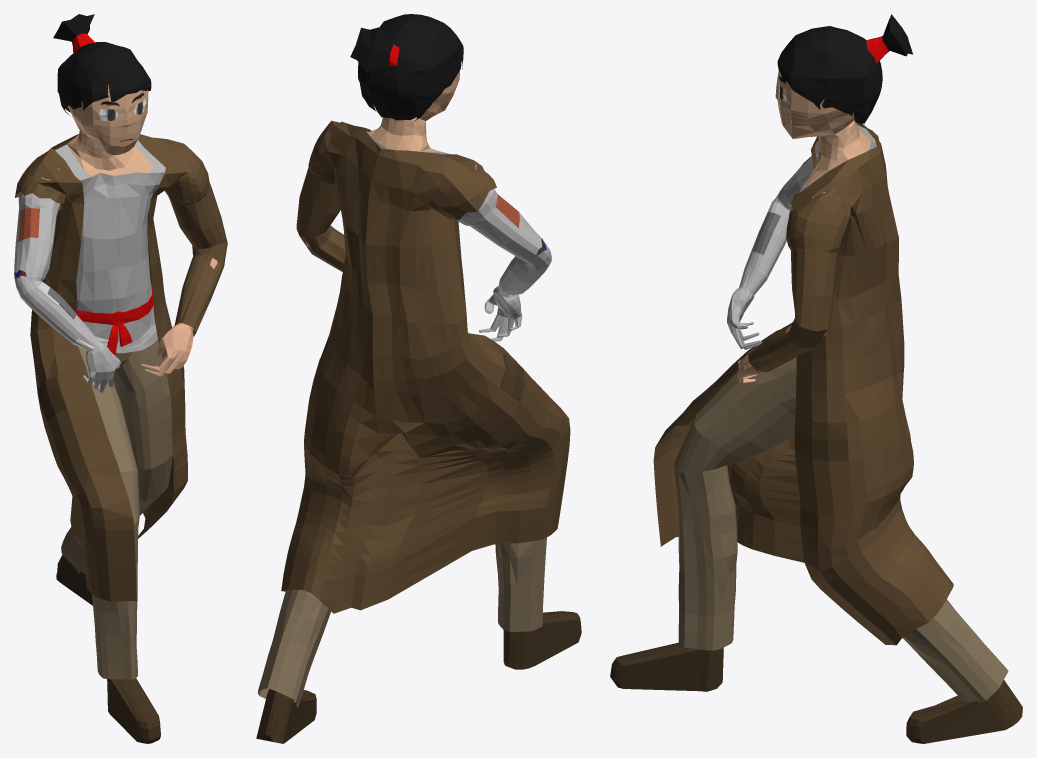
The model's file is One_Bash_000012.obj.
3 views of the same model, side by side, from view 1: azimuth 30°, elevation 25°; view 2: azimuth 150°, elevation 25°; view 3: azimuth 270°, elevation 25° (orthographic). The views are drawn at different scales.
Visible parts, largest first — view 1: Hair_Cube.004; view 2: Hair_Cube.004; view 3: Hair_Cube.004.
Part boxes in pixels (x1,y1,x2,y2): Hair_Cube.004: (14,14,227,743); Hair_Cube.004: (256,14,581,743); Hair_Cube.004: (610,14,1022,743).
Size of the model in its own units: 1.34 by 3.71 by 2.
